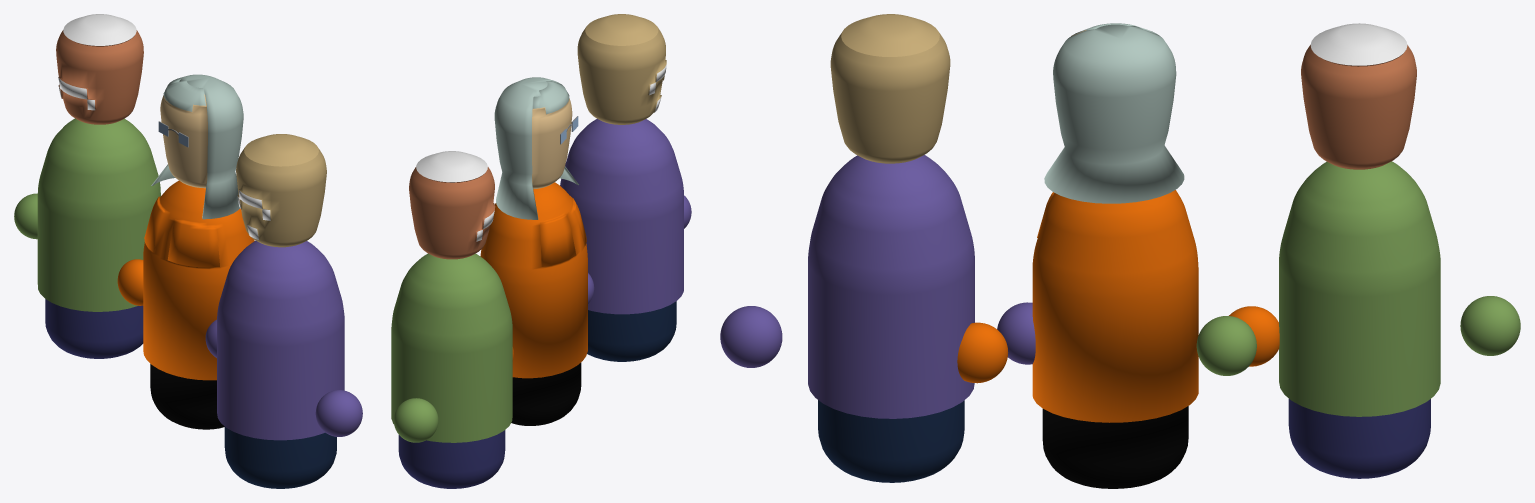
Rendered from olds.fbx.
The picture shows the model from 3 angles, left to right: view 1: azimuth 30°, elevation 25°; view 2: azimuth 150°, elevation 25°; view 3: azimuth 270°, elevation 25°; orthographic projection. The views are drawn at different scales.
Visible parts, largest first — view 1: Circle.006, Circle.007, Plane.002; view 2: Circle.007, Circle.006, Plane.002; view 3: Plane.002, Circle.006, Circle.007.
Boxes of the visible parts, x1,y1,x2,y2 form: Circle.006: (205,134,362,488); Circle.007: (14,14,160,358); Plane.002: (117,74,254,429); Circle.007: (391,151,512,488); Circle.006: (560,14,691,361); Plane.002: (480,77,587,425); Plane.002: (957,23,1279,488); Circle.006: (720,14,1035,482); Circle.007: (1196,23,1520,478).
Bounding box in the file's own units: 826 × 2354 × 3829.
